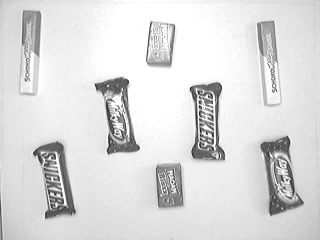Maoam: (143, 18, 178, 72), (153, 161, 187, 210)
Milkyway: (91, 74, 145, 157), (257, 133, 307, 218)
Riegel: (255, 19, 284, 108), (17, 8, 43, 97)
Snickers: (31, 138, 79, 221), (187, 80, 231, 162)
